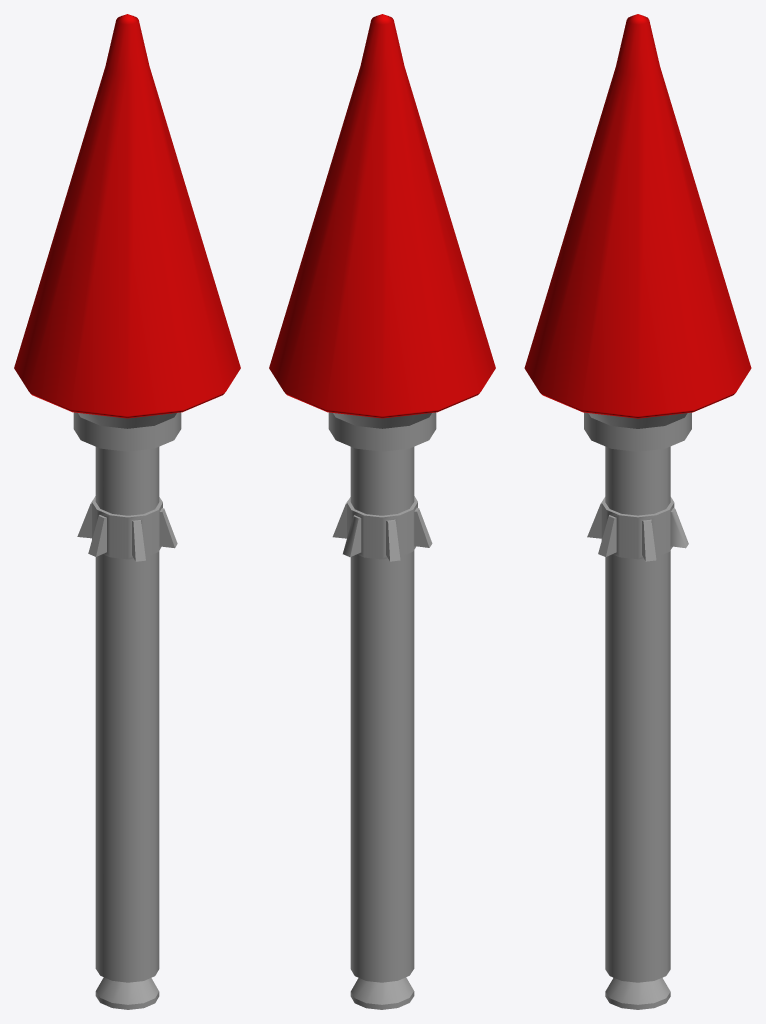
File: SM_Rocket.fbx
3 renders of one model, left to right at view 1: azimuth 30°, elevation 25°; view 2: azimuth 150°, elevation 25°; view 3: azimuth 270°, elevation 25°, orthographic.
Visible parts, largest first — view 1: pRocket; view 2: pRocket; view 3: pRocket.
Part boxes in pixels (bbox=[...]): pRocket: bbox=[14, 14, 240, 1009]; pRocket: bbox=[269, 14, 495, 1009]; pRocket: bbox=[524, 14, 751, 1009].
Size of the model in its own units: 26.85 by 128 by 26.85.
